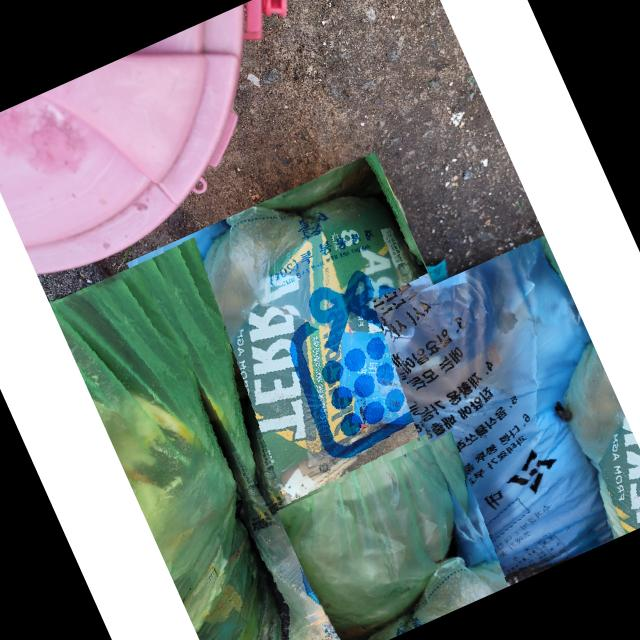general_trashbag: (187, 200, 494, 551), (50, 268, 282, 640), (277, 442, 457, 640)
other_trashbag: (377, 239, 608, 581)
